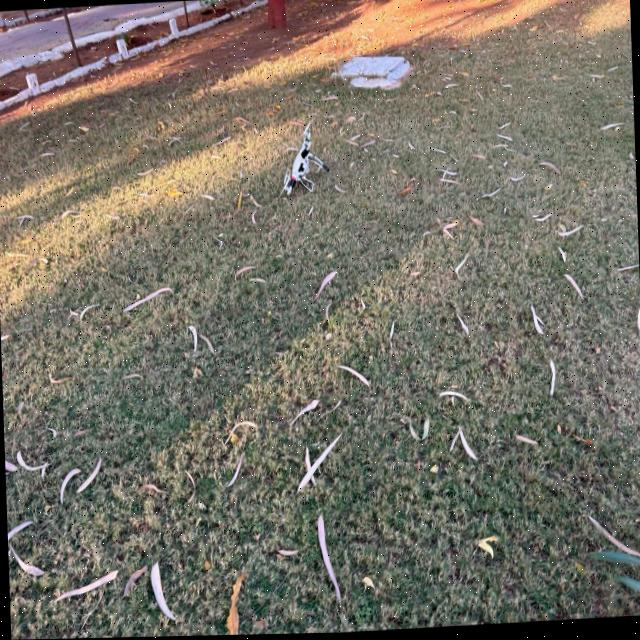drone: (252, 100, 352, 223)
